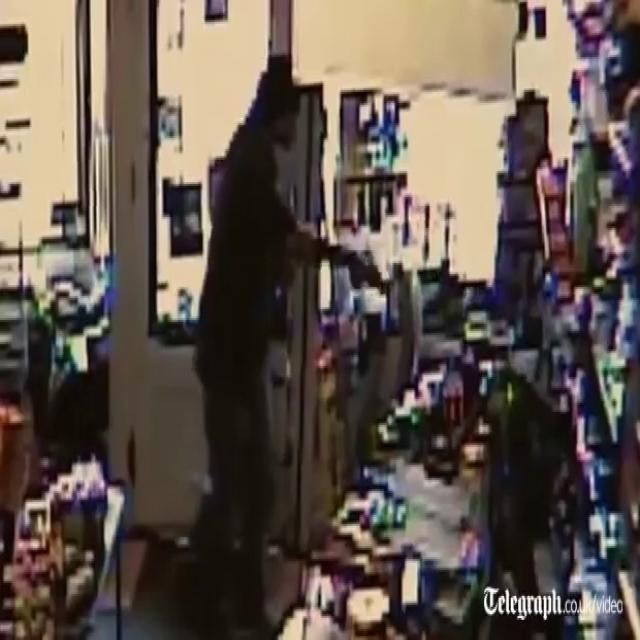weapon: (359, 246, 387, 296)
